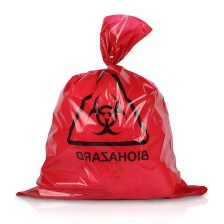plastic_bag: (11, 9, 215, 201)
